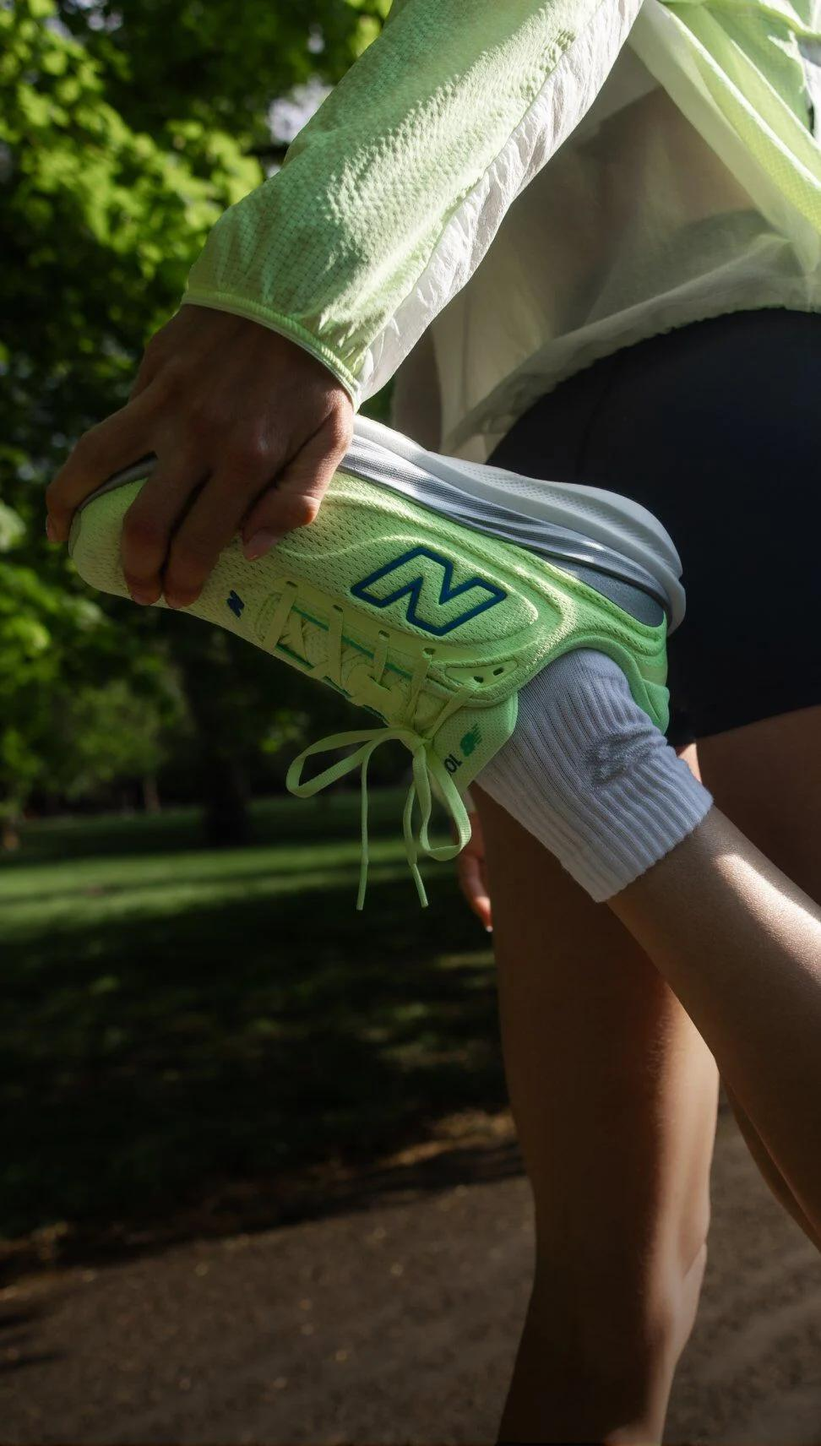NB logo: (336, 529, 520, 648)
sock logo: (530, 674, 707, 883)
